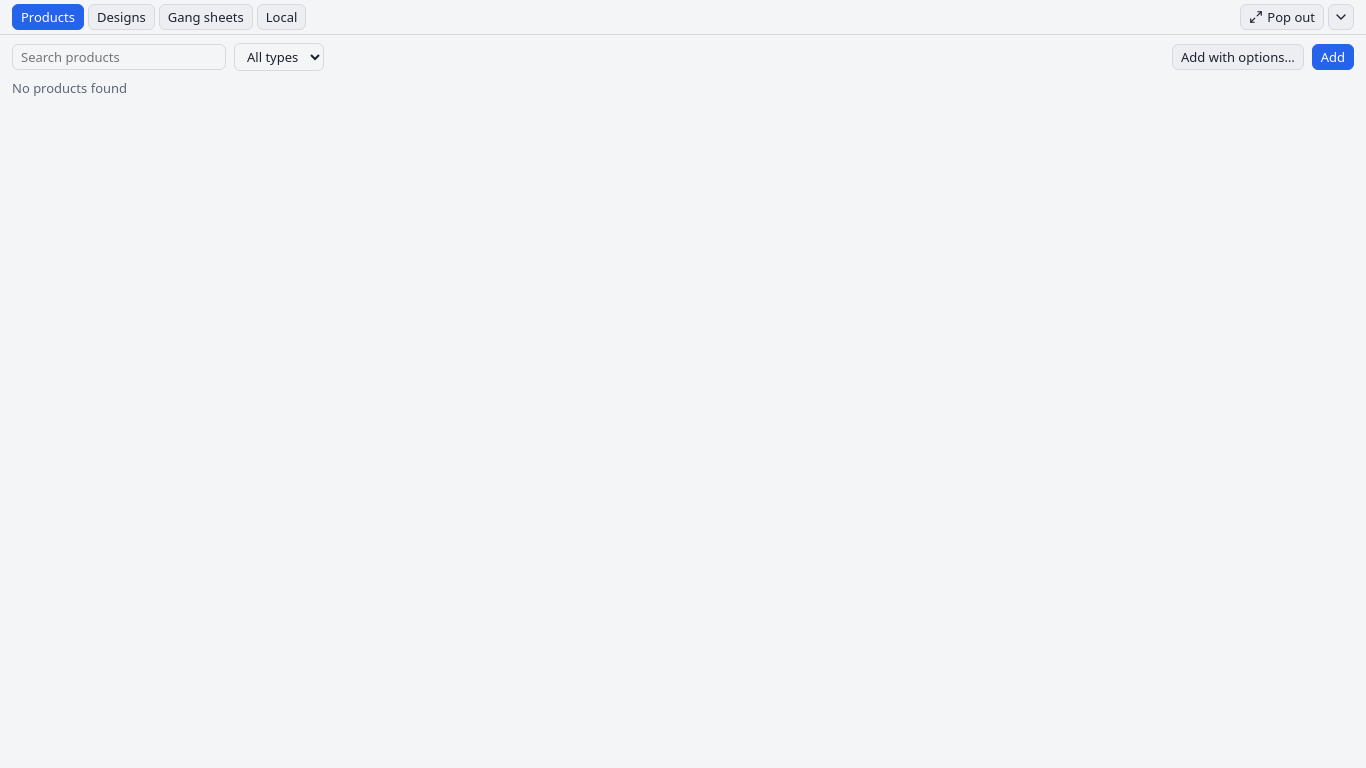
it: LibraryBrowser › shows order statuses in plain English
Click the button "Pop out".
click(1282, 17)  # box left=1240, top=4, right=1324, bottom=30
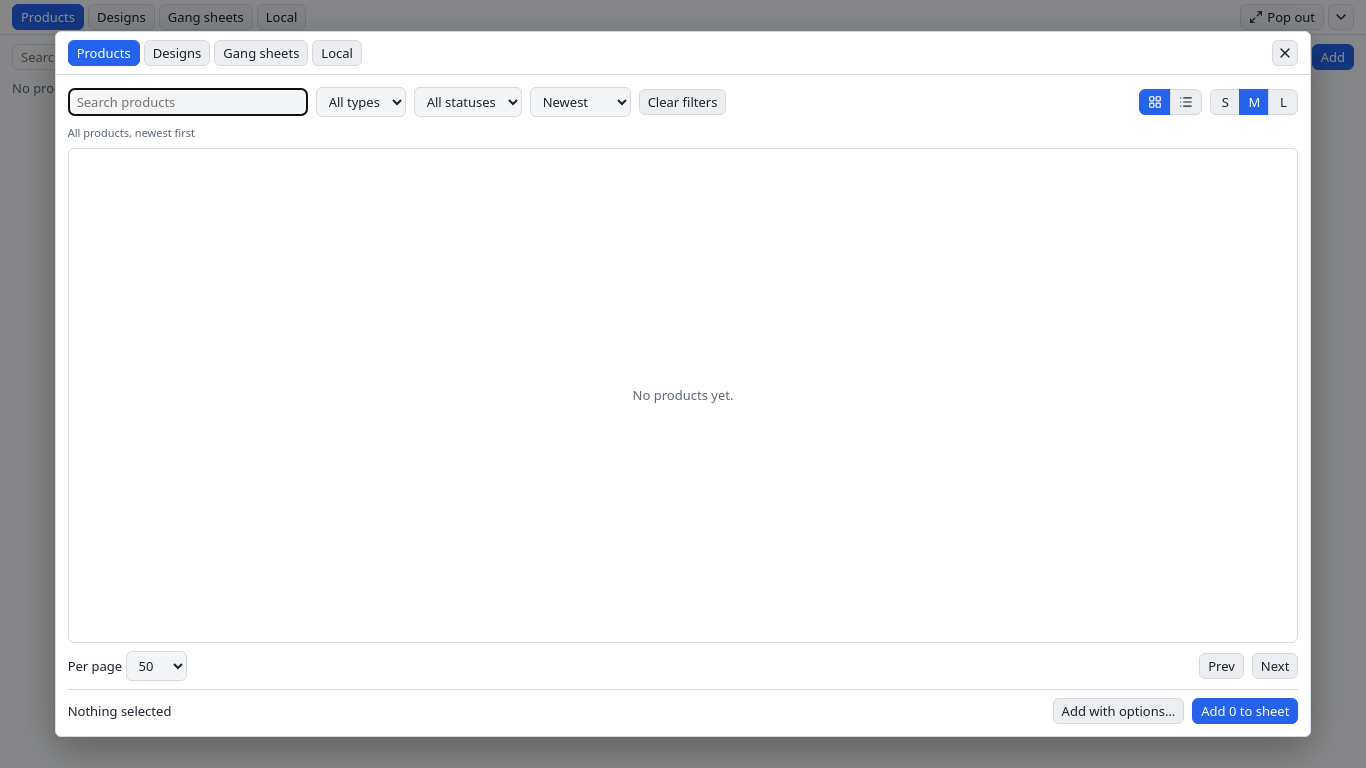
Click the button named "List view".
click(1186, 102)  # box left=1170, top=89, right=1202, bottom=115
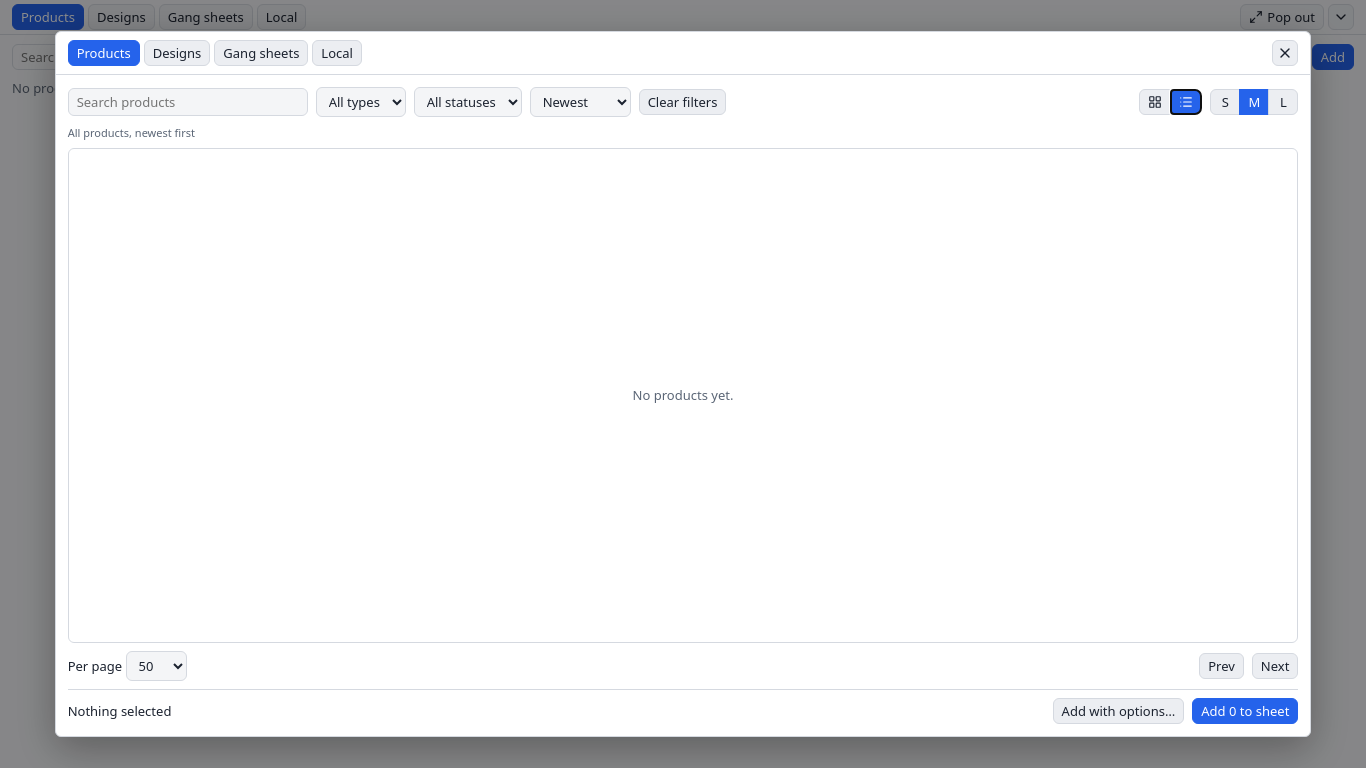
Click the tab "Gang sheets".
click(261, 53)  # box left=214, top=40, right=308, bottom=66
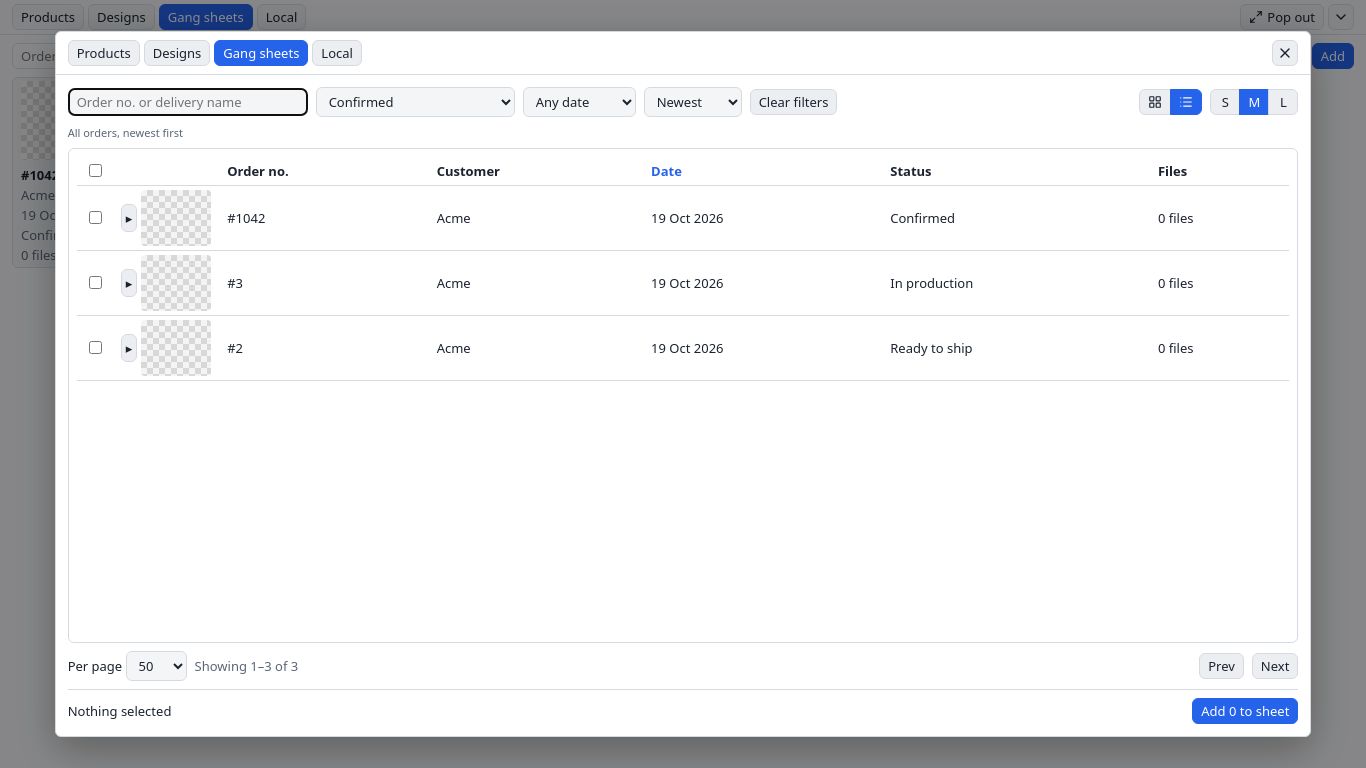
Result: the cell "Confirmed" is shown at left=882, top=185, right=1150, bottom=251
Result: the cell "In production" is shown at left=882, top=251, right=1150, bottom=316
Result: the cell "Ready to ship" is shown at left=882, top=316, right=1150, bottom=381
